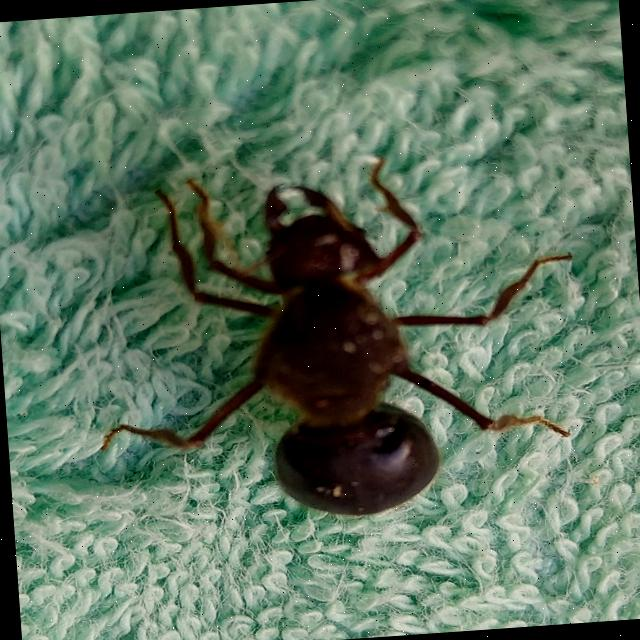Alive-Female-Dealate: (80, 142, 589, 534)
